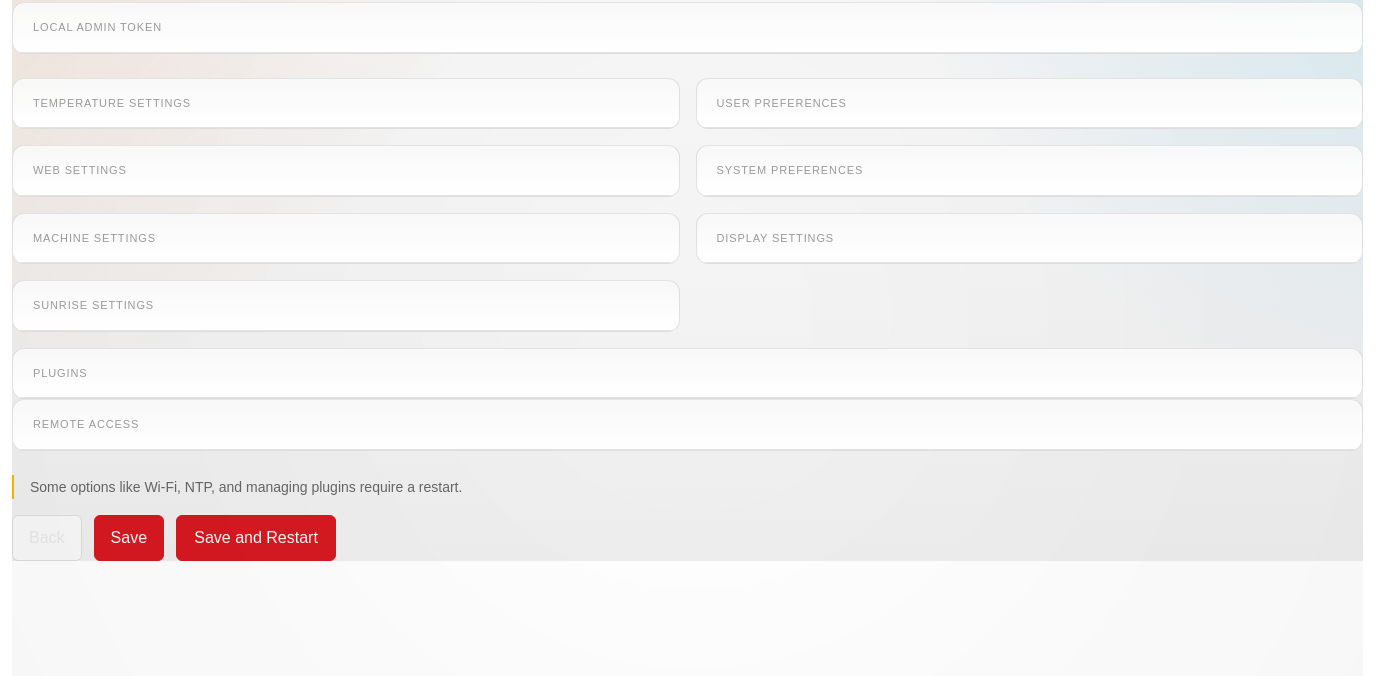
Test: Settings custom accents (PRO-643) › labels the accent previews with text, not color alone
Click the button "Web Settings": (80, 170) [33,162,658,178]
(page scrolled)
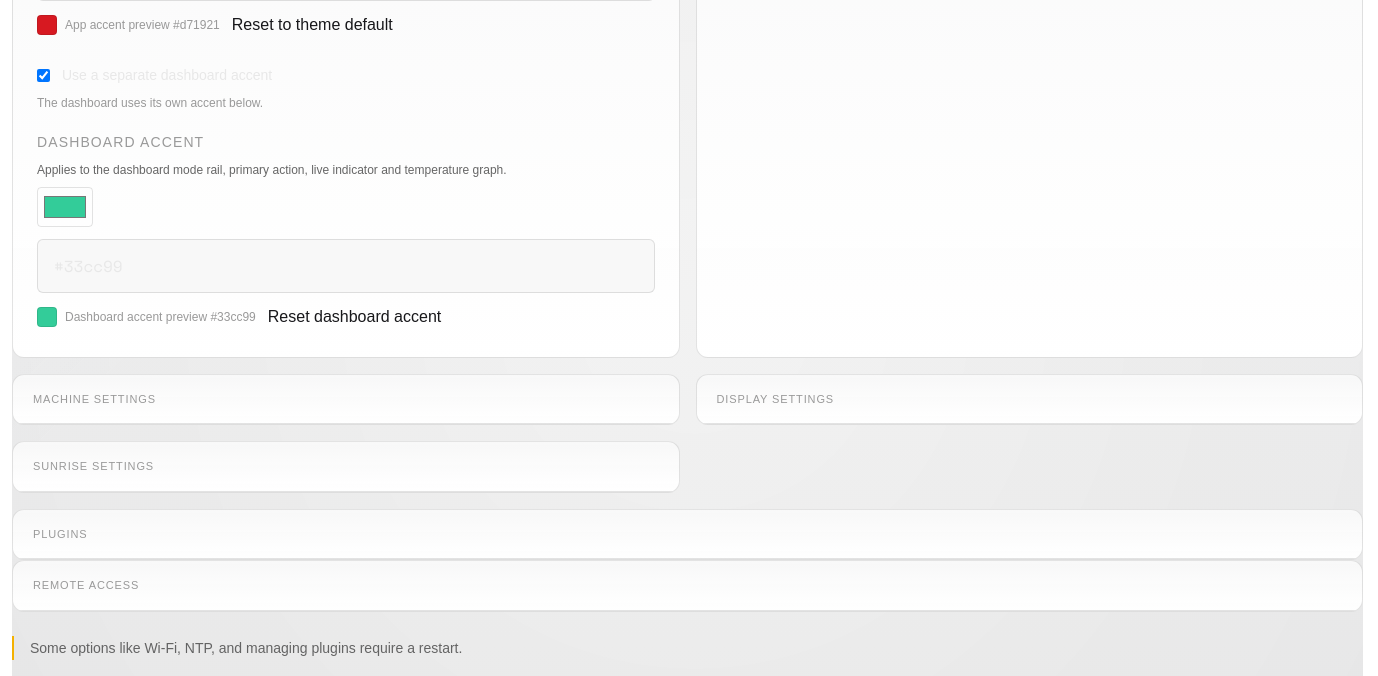
Check: the text "App accent preview #d71921" is shown, box [65,16,220,34]
Check: the text "Dashboard accent preview #33cc99" is shown, box [65,308,256,326]
